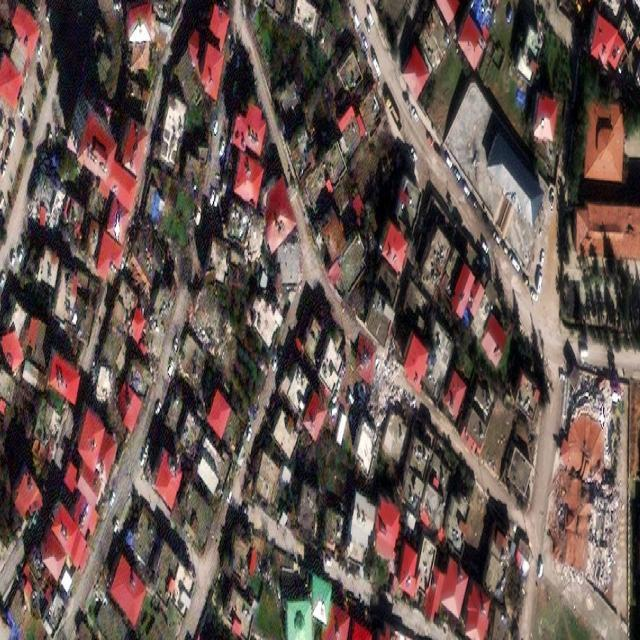Rubble: (578, 492, 618, 586), (567, 369, 619, 438), (367, 353, 407, 418), (186, 298, 226, 349), (28, 167, 61, 220)
